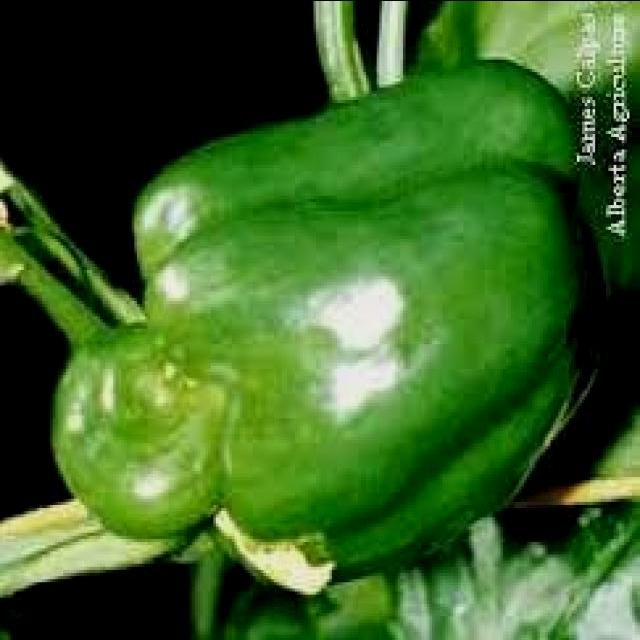bell_pepper: (60, 43, 598, 623)
